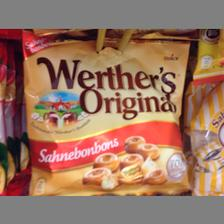Suessigkeit: (23, 29, 193, 193)
